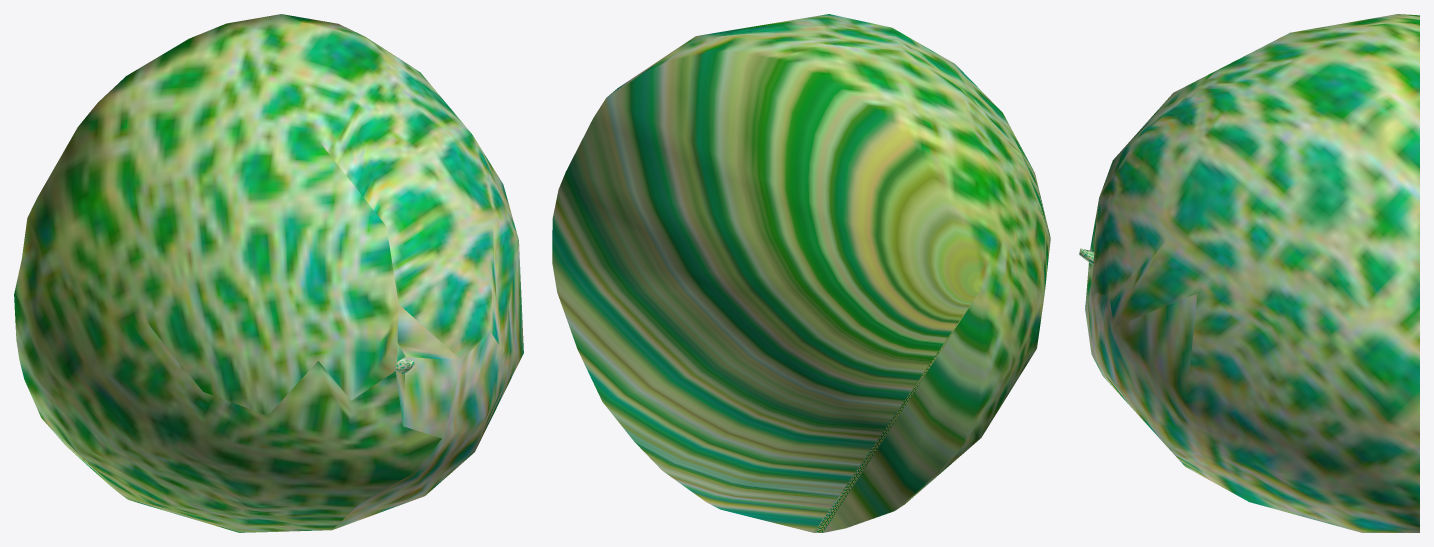
File: melon_left.obj
3 renders of one model, left to right at view 1: azimuth 30°, elevation 25°; view 2: azimuth 150°, elevation 25°; view 3: azimuth 270°, elevation 25°, orthographic. The views are drawn at different scales.
Visible parts, largest first — view 1: melon.002; view 2: melon.002; view 3: melon.002.
Part boxes in pixels (left/top/right/bottom): melon.002: left=14, top=14, right=523, bottom=532; melon.002: left=552, top=14, right=1050, bottom=532; melon.002: left=1079, top=14, right=1419, bottom=532.
Size of the model in its own units: 0.1763 by 0.1803 by 0.1192.
